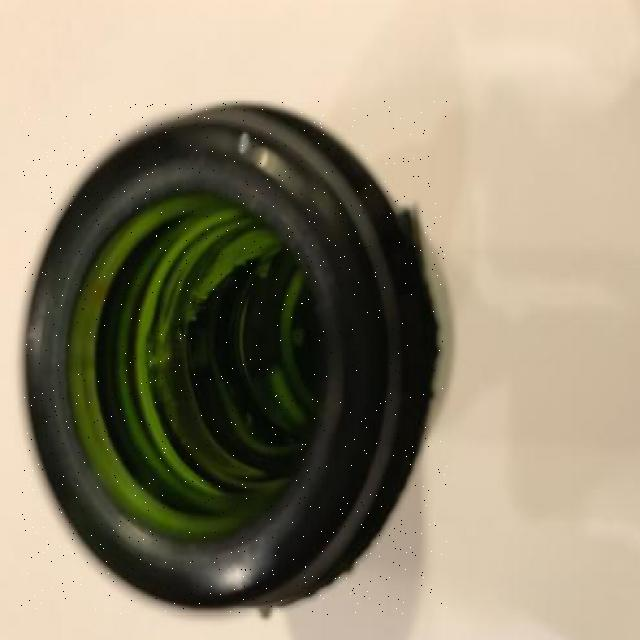glass: (21, 102, 447, 615)
